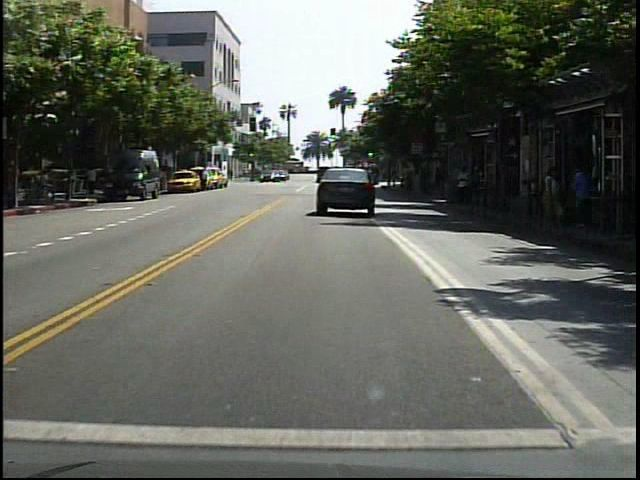person: (453, 166, 476, 213)
